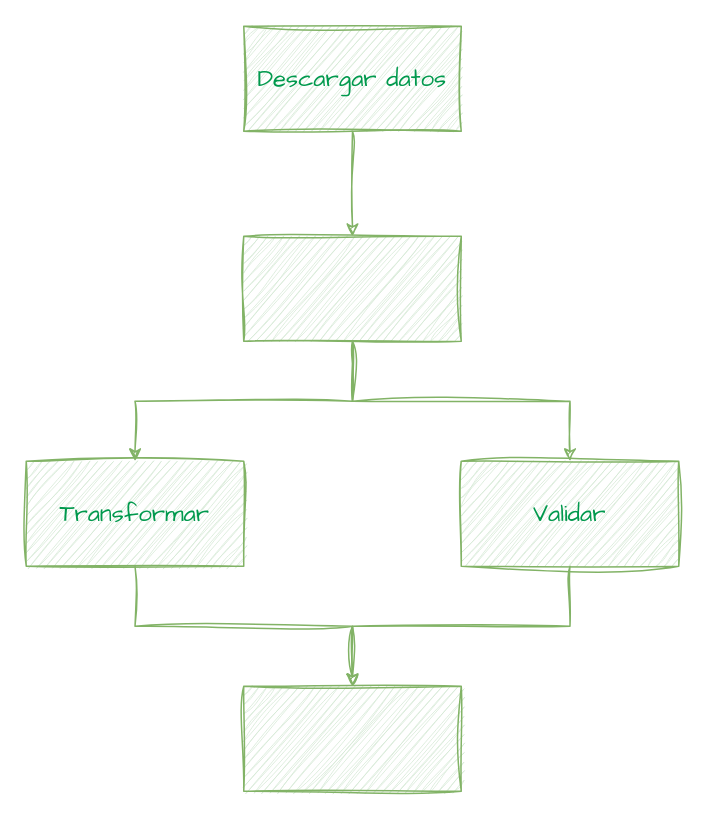
The diagram is 705 pixels wide and 818 high, and some of its shapes have lost their labels. Here are the shapes that lost their labels. From the top down, the centre of each, then its label:
At (351,288): "Limpar".
At (351,738): "Cargar datos".
